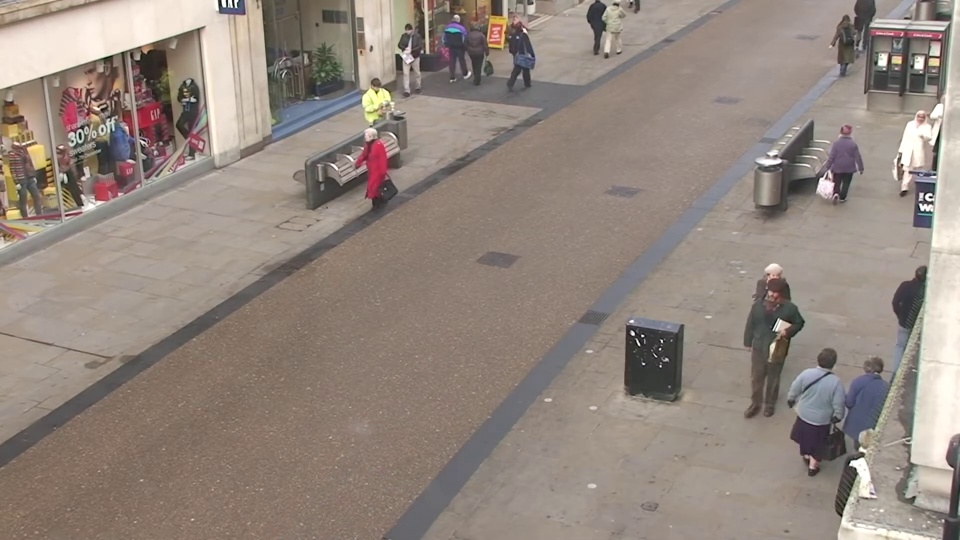pedestrian: (839, 341, 900, 500), (792, 337, 850, 492), (892, 248, 950, 381), (739, 284, 789, 424), (748, 262, 797, 396), (891, 106, 936, 203), (825, 115, 864, 212), (347, 126, 382, 225), (360, 76, 391, 160), (829, 8, 860, 78), (393, 23, 419, 92), (465, 19, 490, 87), (511, 14, 535, 82), (505, 13, 529, 80), (449, 10, 473, 76)
